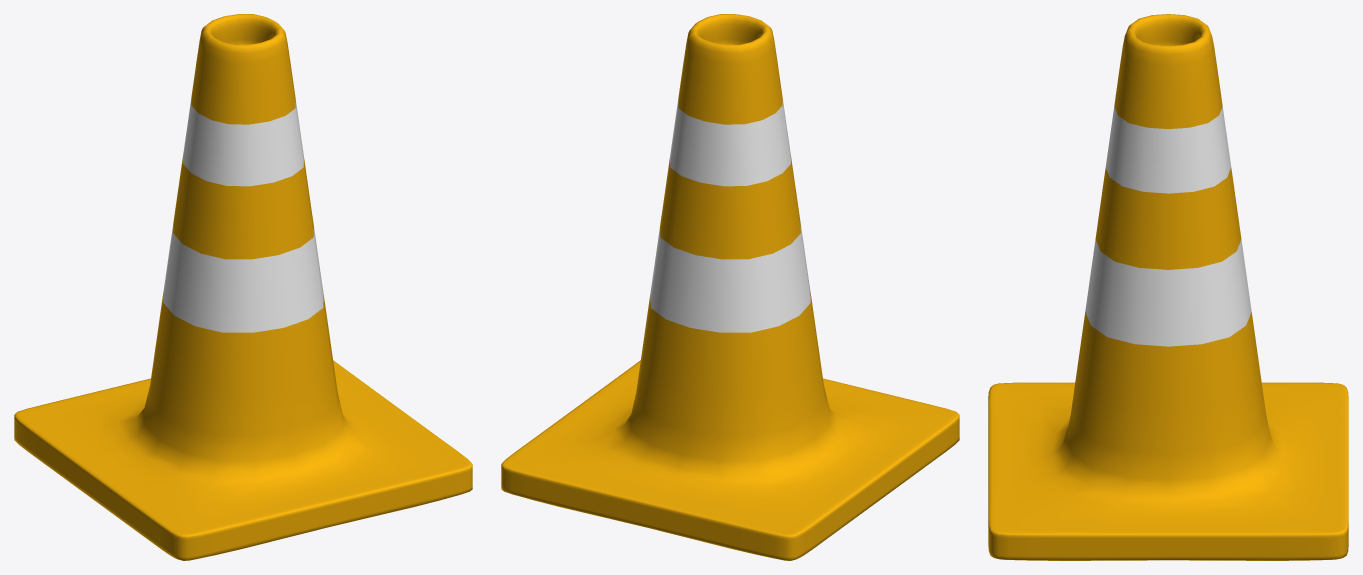
The model's file is TRAFFIC-CONE.glb.
3 renders of one model, left to right at view 1: azimuth 30°, elevation 25°; view 2: azimuth 150°, elevation 25°; view 3: azimuth 270°, elevation 25°, orthographic. The views are drawn at different scales.
Visible parts, largest first — view 1: TRAFFIC-CONE; view 2: TRAFFIC-CONE; view 3: TRAFFIC-CONE.
Boxes of the visible parts, x1=… form: TRAFFIC-CONE: x1=14, y1=14, x2=472, y2=560; TRAFFIC-CONE: x1=501, y1=14, x2=959, y2=560; TRAFFIC-CONE: x1=988, y1=14, x2=1348, y2=560.
Size of the model in its own units: 0.7286 by 1.03 by 0.7286.
